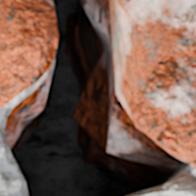broken_brick: (120, 0, 195, 170), (0, 0, 56, 109)
crack: (0, 0, 193, 195)
